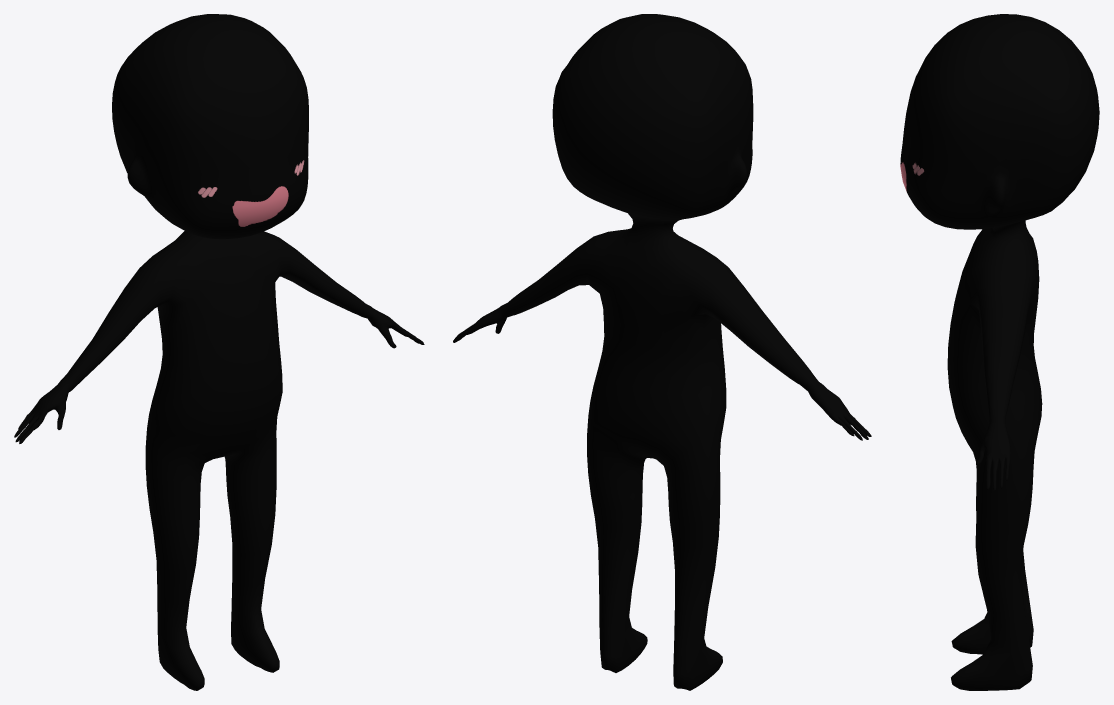
3 views of the same model, side by side, from view 1: azimuth 30°, elevation 25°; view 2: azimuth 150°, elevation 25°; view 3: azimuth 270°, elevation 25° (orthographic).
Parts seen in each view (by area): view 1: BODY_0; view 2: BODY_0; view 3: BODY_0.
Part boxes in pixels (x1=…): BODY_0: x1=14, y1=14, x2=424, y2=690; BODY_0: x1=453, y1=14, x2=871, y2=690; BODY_0: x1=900, y1=14, x2=1099, y2=690.
Bounding box in the file's own units: 14.06 × 21.28 × 5.93.
1 material, 1 textured.
